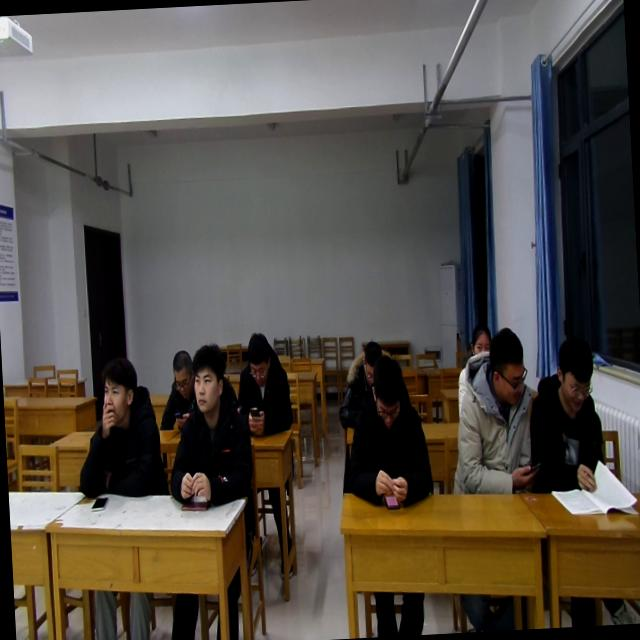bow: (233, 328, 295, 438), (334, 336, 396, 432)
down: (550, 331, 598, 414), (368, 354, 408, 432), (241, 326, 276, 388), (168, 343, 196, 400), (358, 338, 380, 386)
lookup: (96, 356, 142, 440), (188, 336, 232, 418), (466, 318, 490, 360)
sit: (446, 322, 538, 500), (162, 340, 256, 510), (339, 351, 436, 511), (72, 352, 172, 502), (524, 333, 608, 494), (452, 320, 496, 423), (157, 346, 200, 429)
